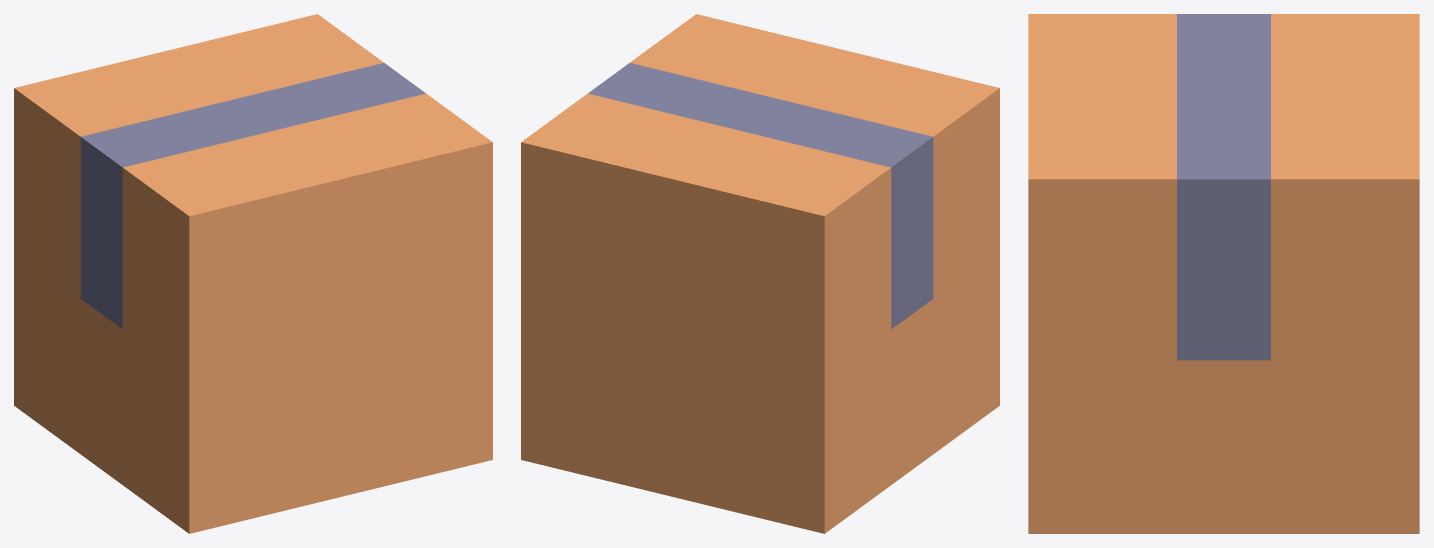
3 renders of one model, left to right at view 1: azimuth 30°, elevation 25°; view 2: azimuth 150°, elevation 25°; view 3: azimuth 270°, elevation 25°, orthographic. The views are drawn at different scales.
Visible parts, largest first — view 1: Box1x1, Box1x1.lid.2, Box1x1.lid.1; view 2: Box1x1, Box1x1.lid.1, Box1x1.lid.2; view 3: Box1x1, Box1x1.lid.1, Box1x1.lid.2.
Part boxes in pixels (x1,y1,x2,y2): Box1x1: [14, 94, 492, 533]; Box1x1.lid.2: [101, 78, 492, 222]; Box1x1.lid.1: [14, 14, 404, 157]; Box1x1: [521, 94, 999, 533]; Box1x1.lid.1: [521, 78, 912, 222]; Box1x1.lid.2: [609, 14, 999, 157]; Box1x1: [1028, 186, 1419, 533]; Box1x1.lid.1: [1224, 14, 1419, 186]; Box1x1.lid.2: [1028, 14, 1223, 186].
Size of the model in its own units: 100 by 100 by 100.
